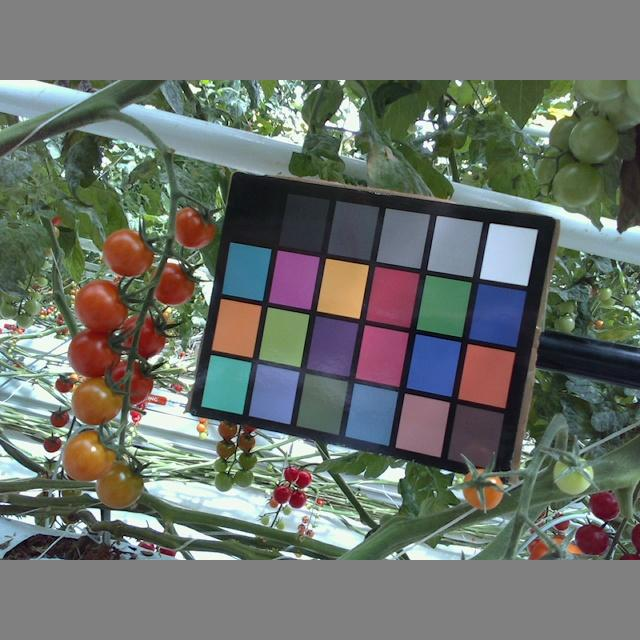green: (569, 117, 617, 164), (552, 167, 604, 210), (552, 457, 593, 496)
pink: (59, 429, 115, 481), (74, 281, 127, 334), (102, 357, 154, 411), (97, 458, 145, 511), (101, 229, 153, 277), (71, 378, 122, 425), (67, 332, 117, 378), (119, 313, 166, 360), (151, 260, 194, 306), (170, 206, 215, 249), (462, 469, 504, 512), (529, 533, 584, 560)
red: (576, 523, 611, 558), (588, 488, 621, 520)
